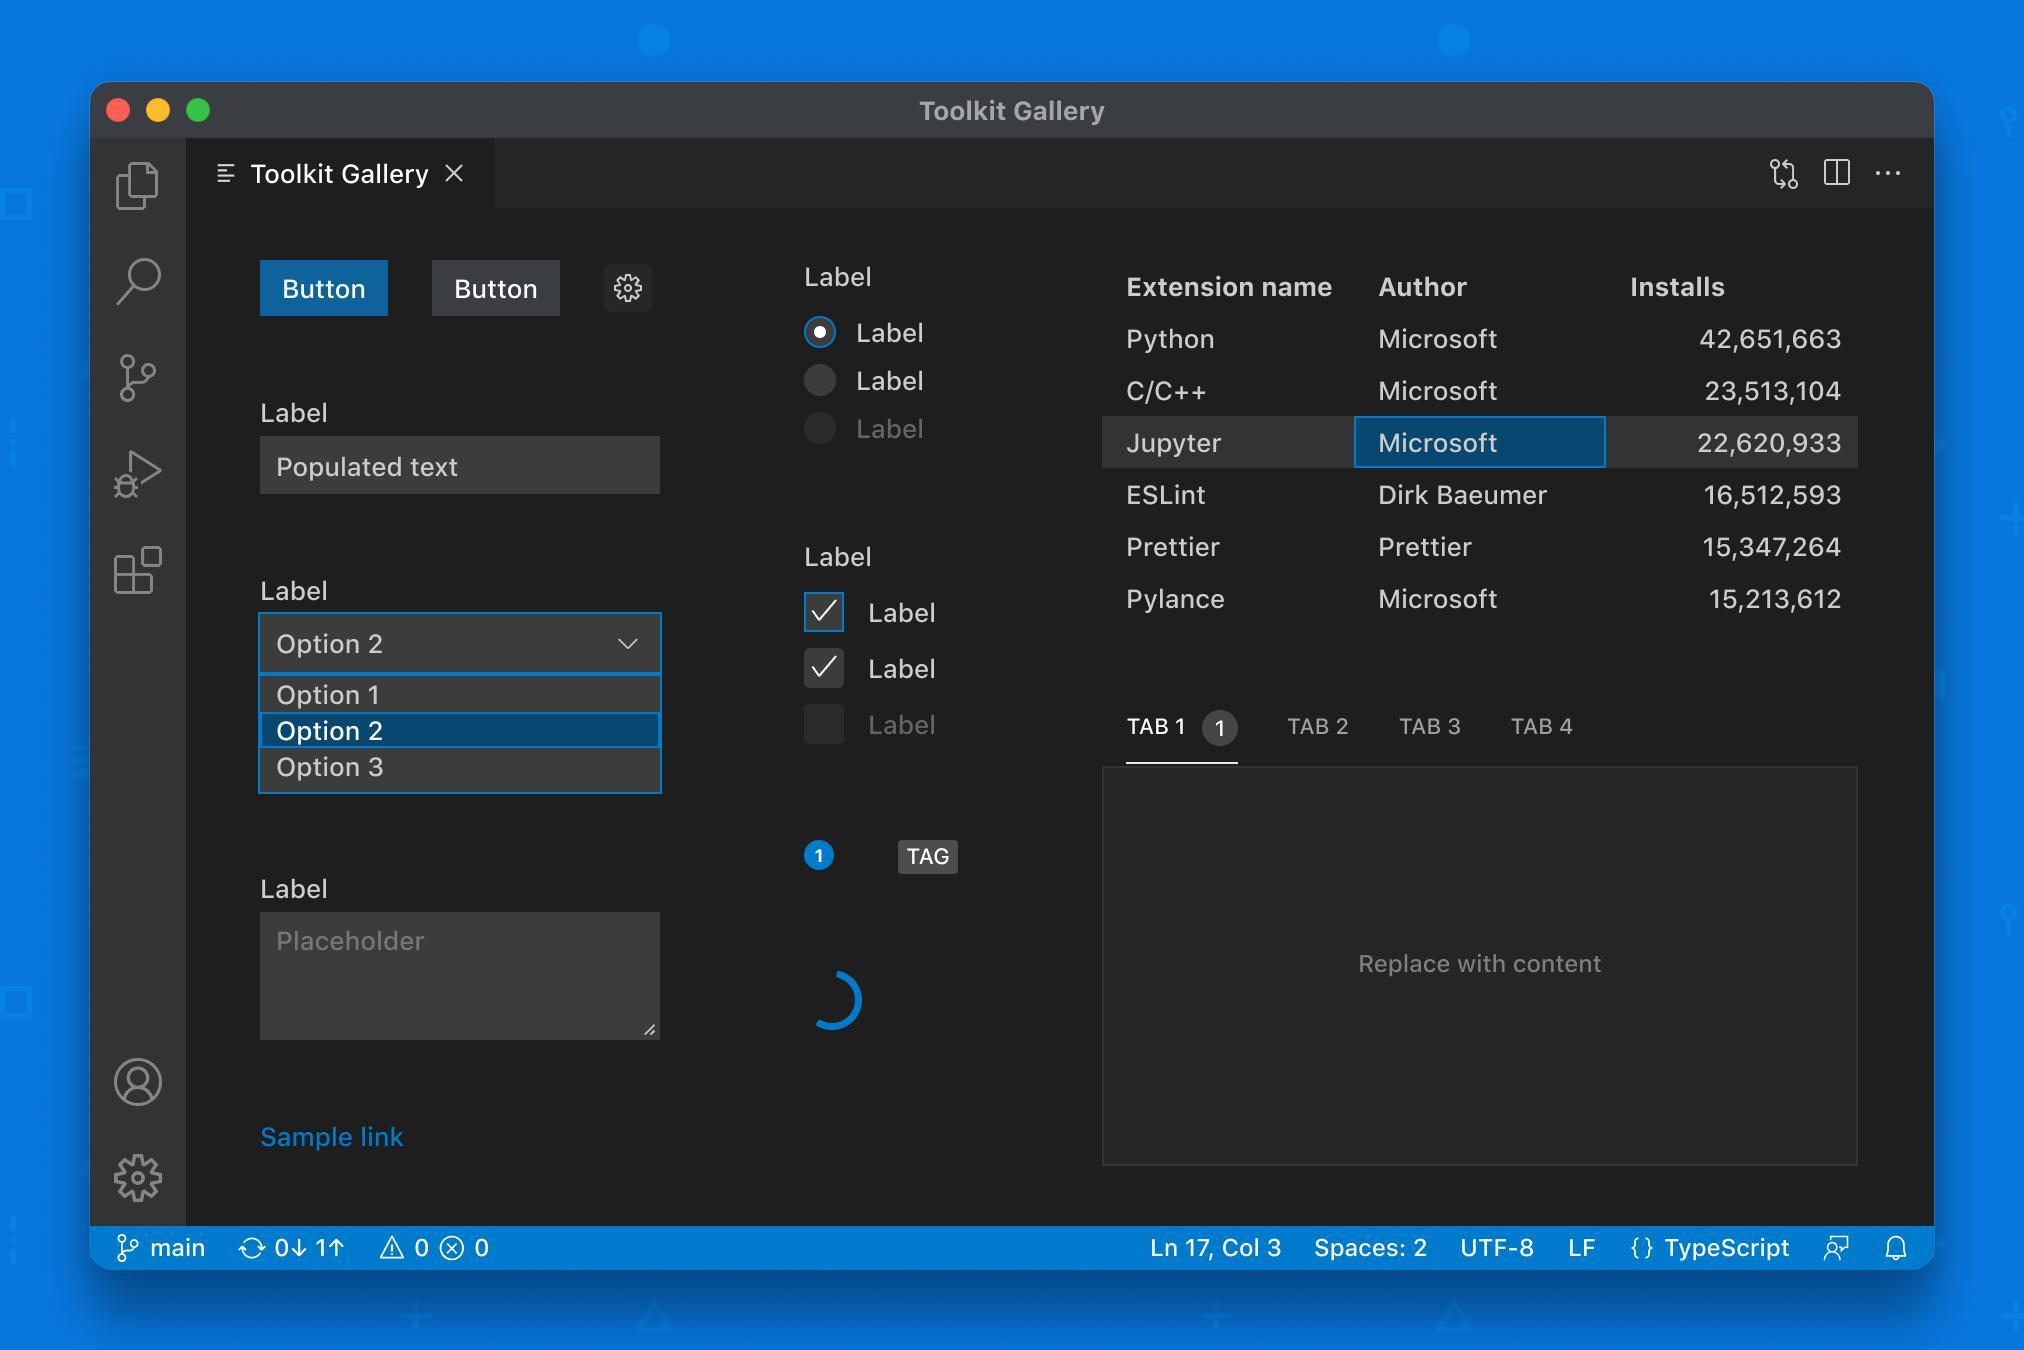button: (261, 749, 661, 793), (261, 677, 661, 713), (261, 714, 660, 747), (431, 258, 562, 319), (264, 259, 386, 319), (1123, 702, 1239, 765)
checkbox: (804, 648, 846, 690), (804, 704, 848, 744), (804, 594, 843, 633)
dropdown: (261, 615, 663, 673)
icon: (108, 541, 169, 601), (108, 256, 164, 318), (108, 446, 164, 503), (113, 1150, 166, 1208), (108, 1056, 164, 1110), (114, 350, 160, 411), (116, 161, 163, 218), (1763, 154, 1812, 200), (1819, 151, 1858, 199), (613, 268, 646, 307), (212, 151, 245, 185), (1866, 161, 1908, 185), (441, 164, 464, 188)
input: (264, 438, 663, 494)
label: (255, 1122, 419, 1159), (855, 648, 949, 686), (794, 541, 879, 579), (258, 868, 336, 909), (843, 411, 931, 447), (851, 313, 931, 353), (1283, 708, 1358, 749), (1398, 704, 1473, 744), (1495, 708, 1577, 746), (258, 576, 339, 612), (861, 707, 944, 741), (806, 256, 878, 294), (851, 365, 931, 398), (258, 399, 336, 431), (863, 601, 943, 628)
radio: (803, 316, 839, 353), (804, 363, 840, 399), (804, 411, 840, 447)
table: (1111, 268, 1864, 624)
